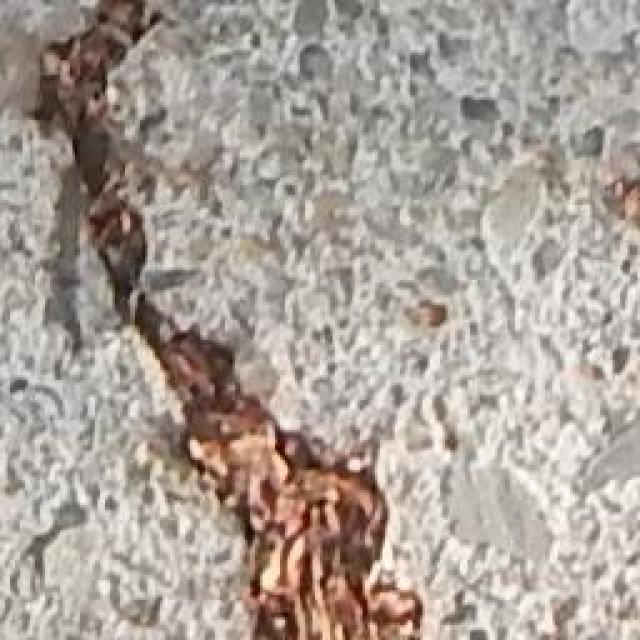concrete-crack: (32, 0, 430, 640)
